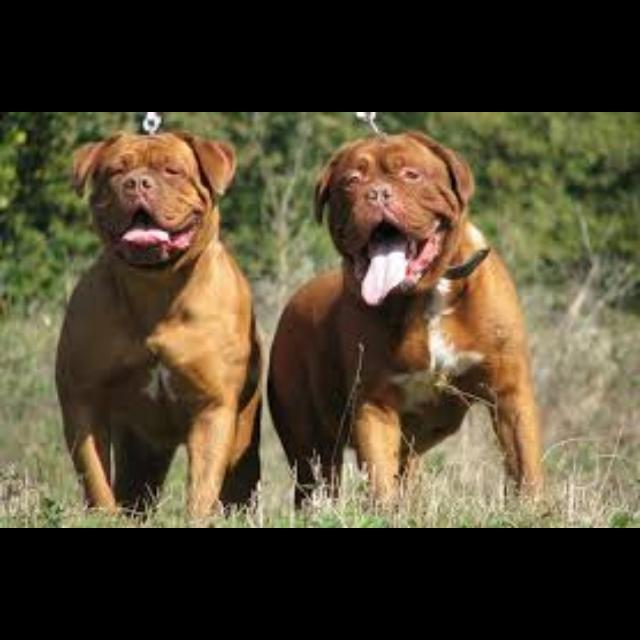dogue_de_bordeaux: (268, 131, 547, 516), (55, 130, 265, 526)
